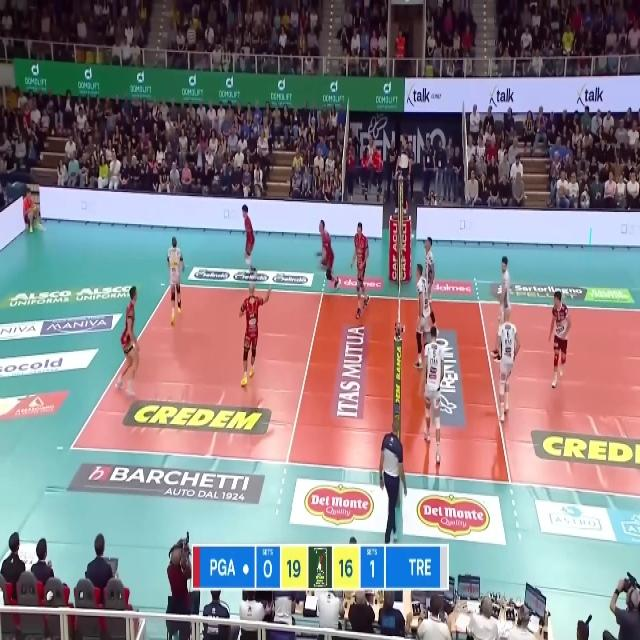volleyball court: (68, 280, 638, 495)
